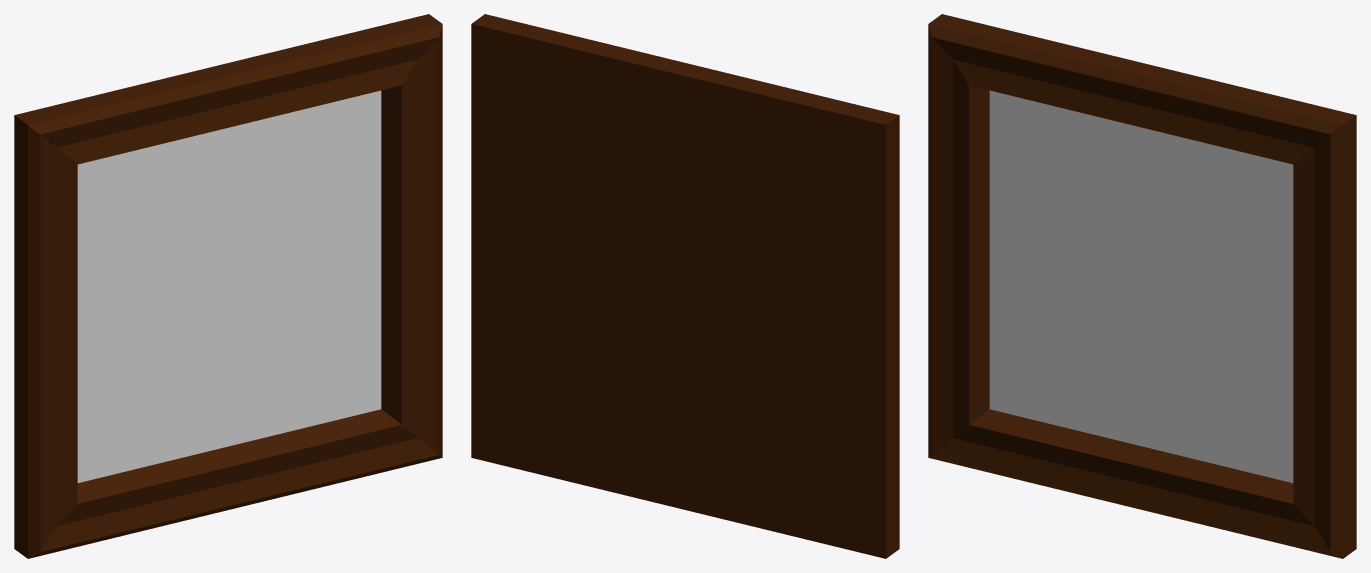
Rendered from Bilderrahmen.glb.
The picture shows the model from 3 angles, left to right: view 1: azimuth 30°, elevation 25°; view 2: azimuth 150°, elevation 25°; view 3: azimuth 330°, elevation 25°; orthographic projection.
Parts seen in each view (by area): view 1: Cube; view 2: Cube; view 3: Cube.
Part boxes in pixels (x1,y1,x2,y2): Cube: (14, 14, 442, 558); Cube: (471, 14, 899, 558); Cube: (928, 14, 1356, 558).
Bounding box in the file's own units: 0.5563 × 0.5563 × 0.0419.
